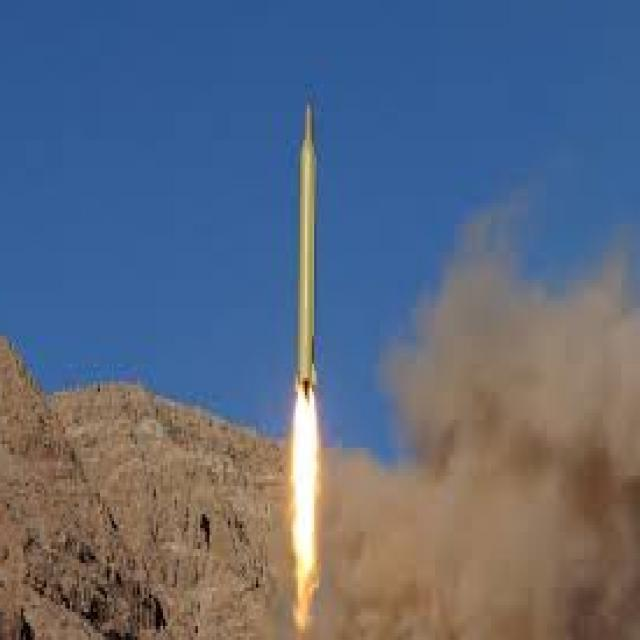Missile: (287, 79, 325, 411)
